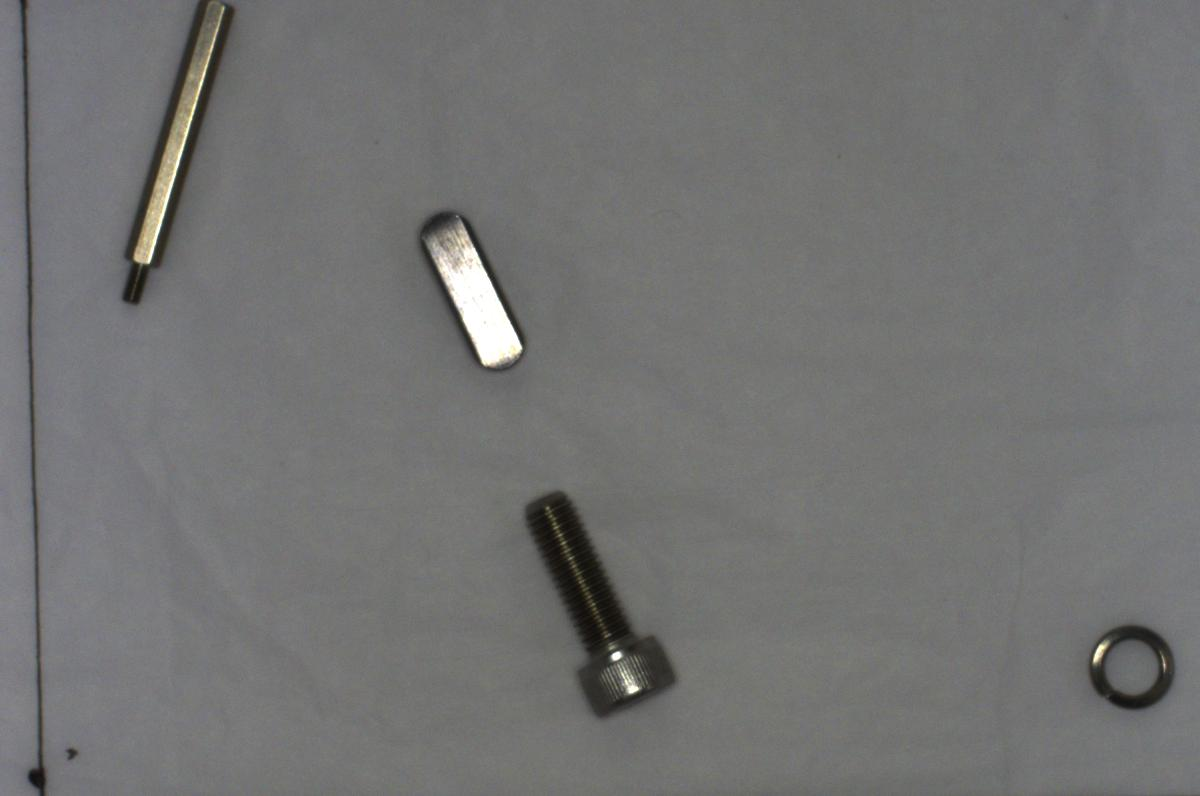Hexagon screw: (512, 481, 687, 730)
Hexagonal steel column: (110, 5, 245, 309)
Keybar: (404, 202, 534, 380)
Spring washer: (1081, 619, 1182, 713)
